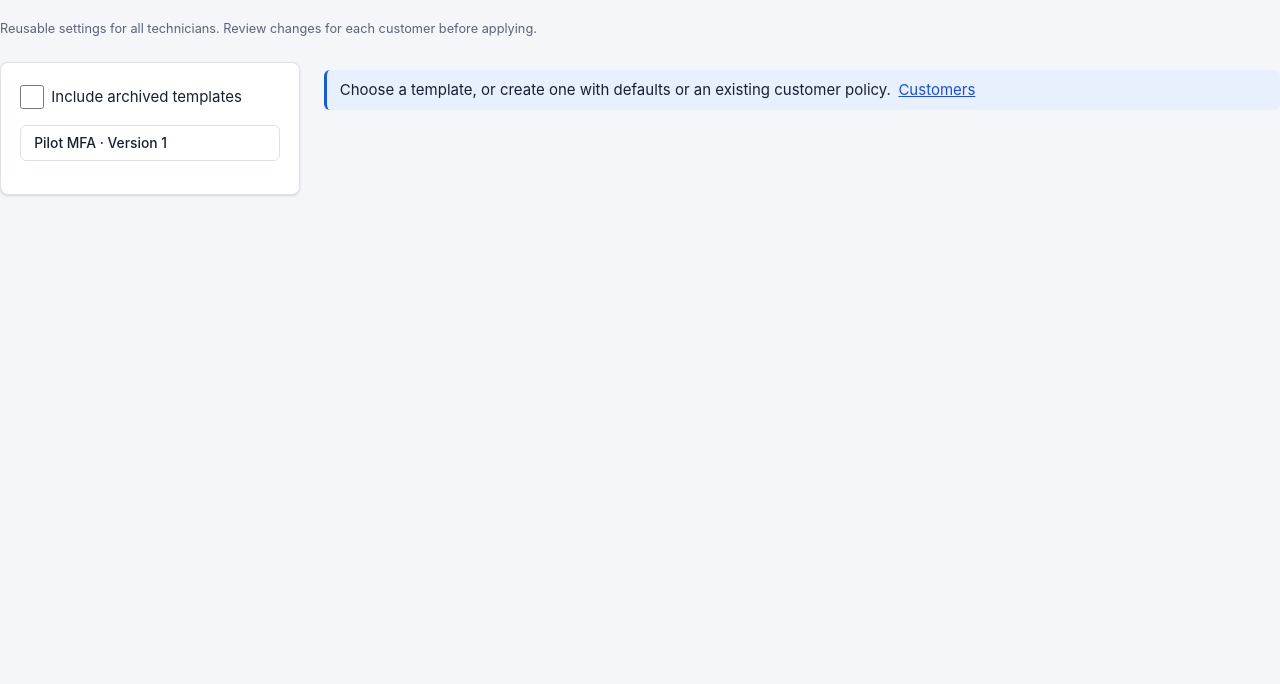
requires a per-client preview before starting bulk application
Click the button "Pilot MFA · Version 1": click(150, 143) [20, 125, 280, 161]
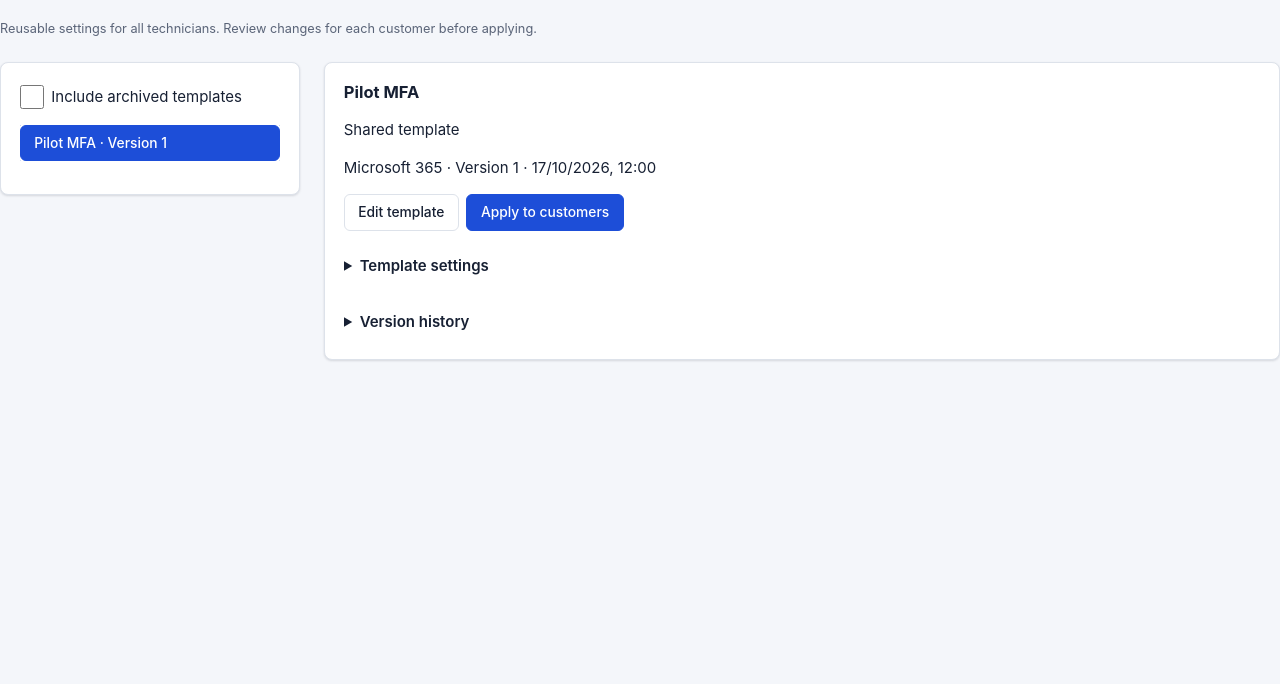
Click the button "Apply to customers": click(545, 212) [466, 194, 624, 230]
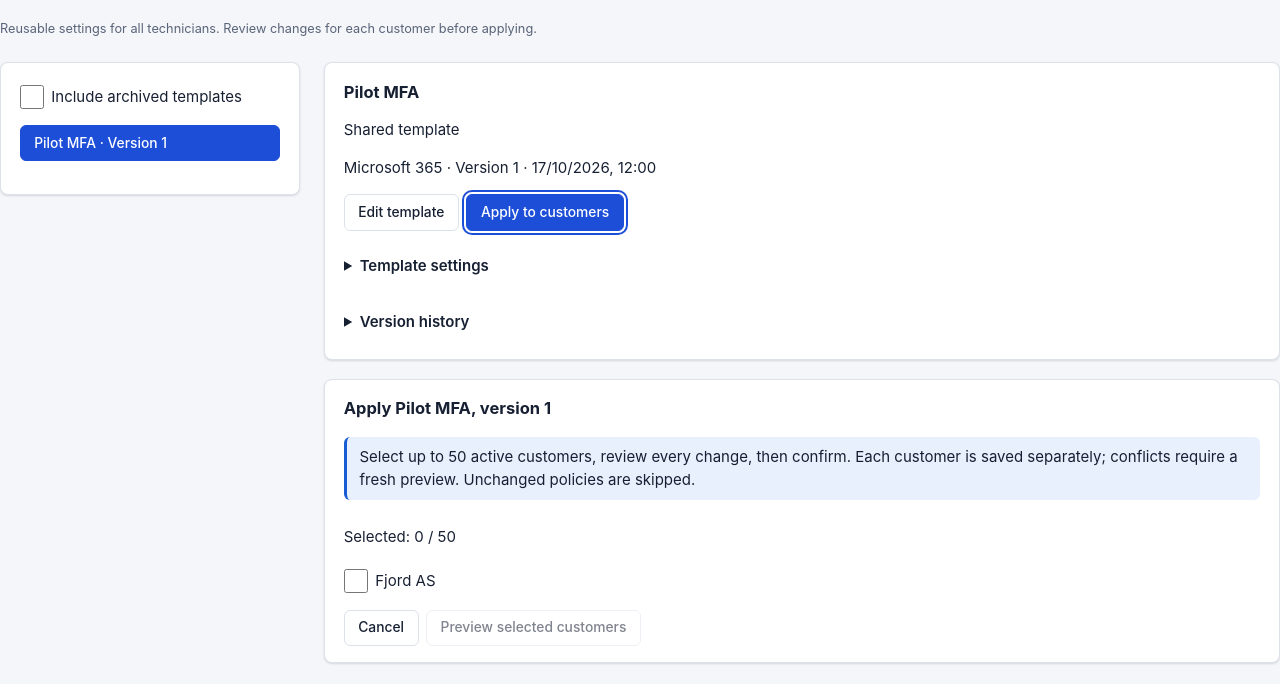
Click the checkbox labelled "Fjord AS": click(356, 581) [344, 569, 368, 593]
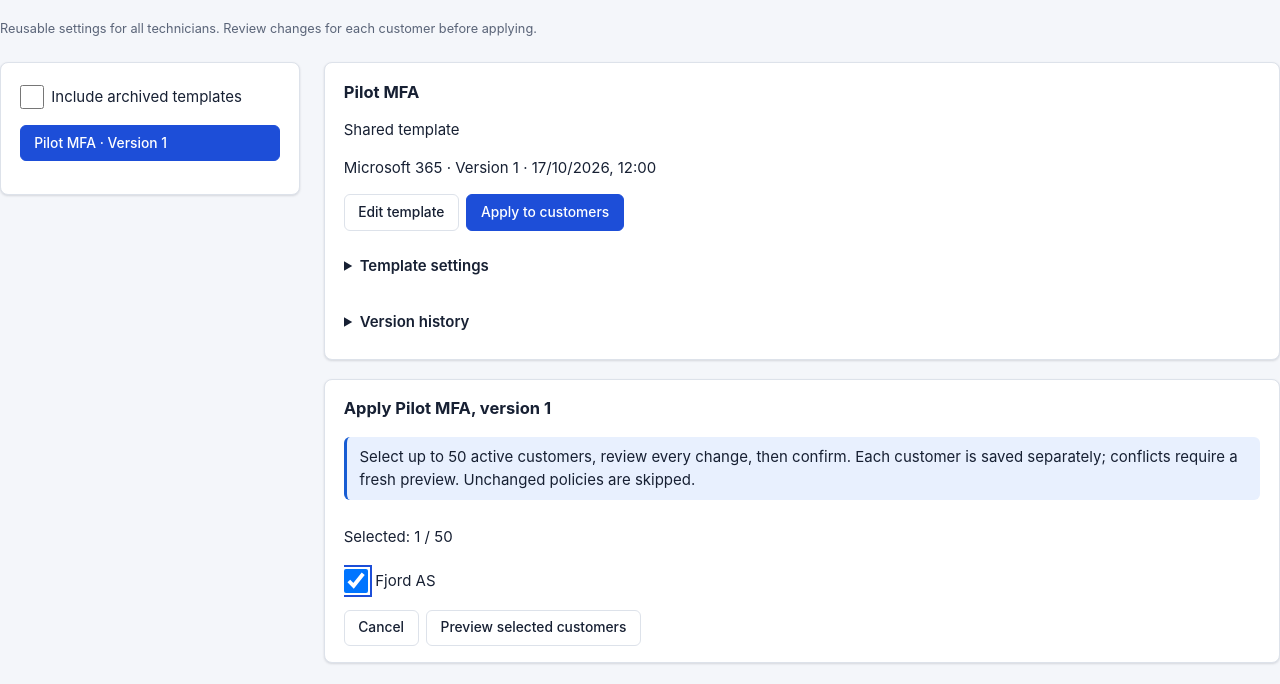
Expected: the button "Apply to 1 reviewed" is not shown
Click the button "Preview selected customers": click(533, 628) [426, 610, 641, 646]
(page scrolled)
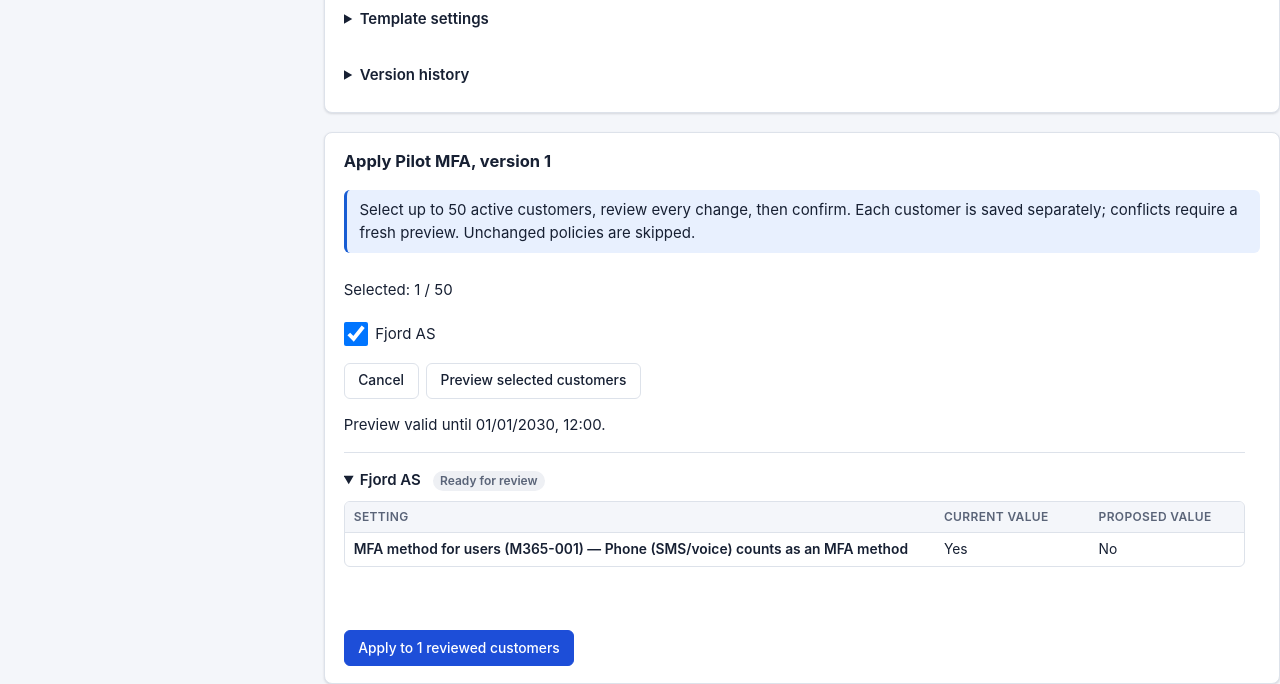
Result: the column heading "Phone (SMS/voice) counts as an MFA method" is shown at [345, 533, 935, 566]
Click the button "Apply to 1 reviewed customers": click(459, 648) [344, 630, 574, 666]
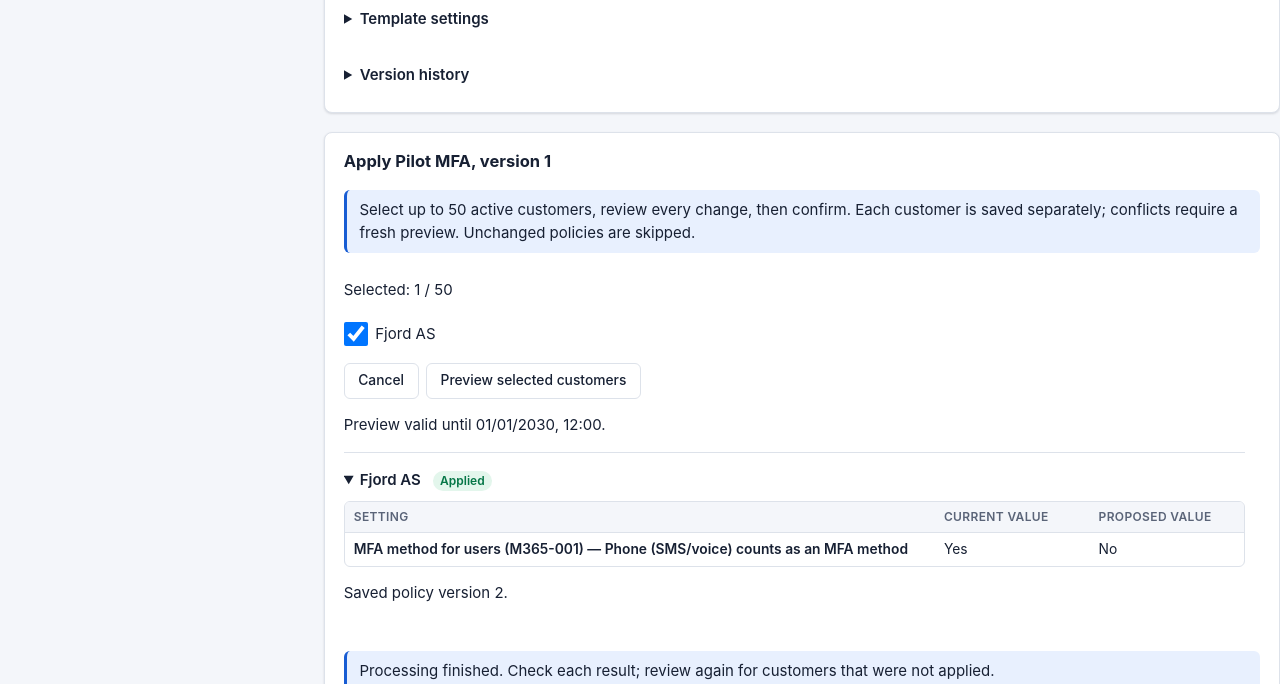
Result: the text "Saved policy version 2." is shown at [344, 583, 508, 602]
